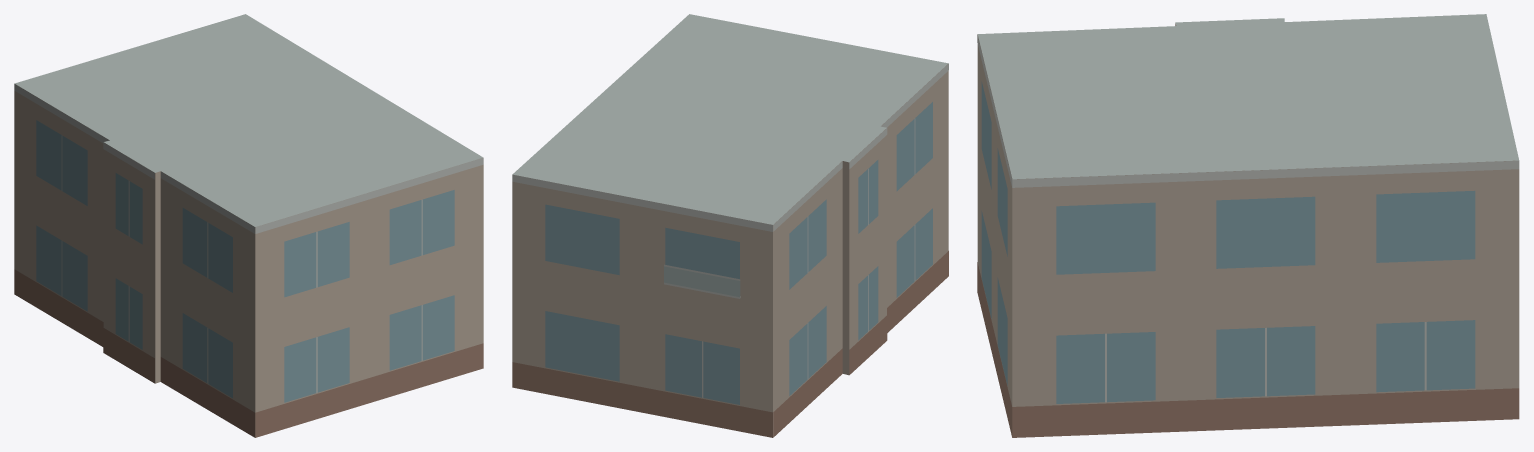
Rendered from survey-upis-32625741.glb.
3 views of the same model, side by side, from view 1: azimuth 30°, elevation 25°; view 2: azimuth 150°, elevation 25°; view 3: azimuth 270°, elevation 25° (orthographic). The views are drawn at different scales.
Parts seen in each view (by area): view 1: survey-upis-32625741.tmp; view 2: survey-upis-32625741.tmp; view 3: survey-upis-32625741.tmp.
Boxes of the visible parts, bbox=[...] form: survey-upis-32625741.tmp: bbox=[14, 14, 483, 437]; survey-upis-32625741.tmp: bbox=[512, 14, 948, 437]; survey-upis-32625741.tmp: bbox=[977, 14, 1519, 437].
Size of the model in its own units: 10.02 by 7.3 by 13.87.
